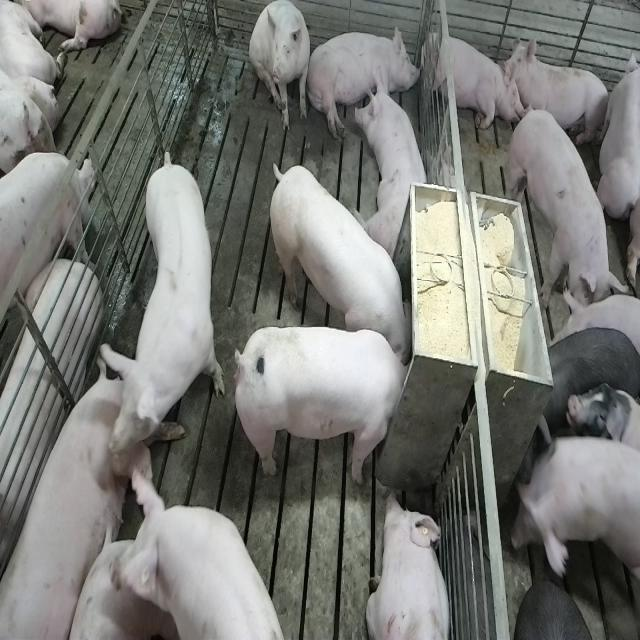Feeding: (264, 160, 412, 361), (240, 325, 418, 484)
Lateral_lying: (2, 365, 170, 640), (306, 20, 422, 139)
Sitting: (250, 2, 312, 134)
Standing: (93, 147, 222, 460), (508, 418, 639, 634), (110, 495, 290, 640), (508, 103, 623, 321), (0, 156, 94, 348), (538, 326, 638, 428), (519, 579, 610, 640)
Sternal_lying: (356, 72, 433, 259), (366, 489, 453, 640), (504, 40, 610, 150), (426, 28, 516, 134)
